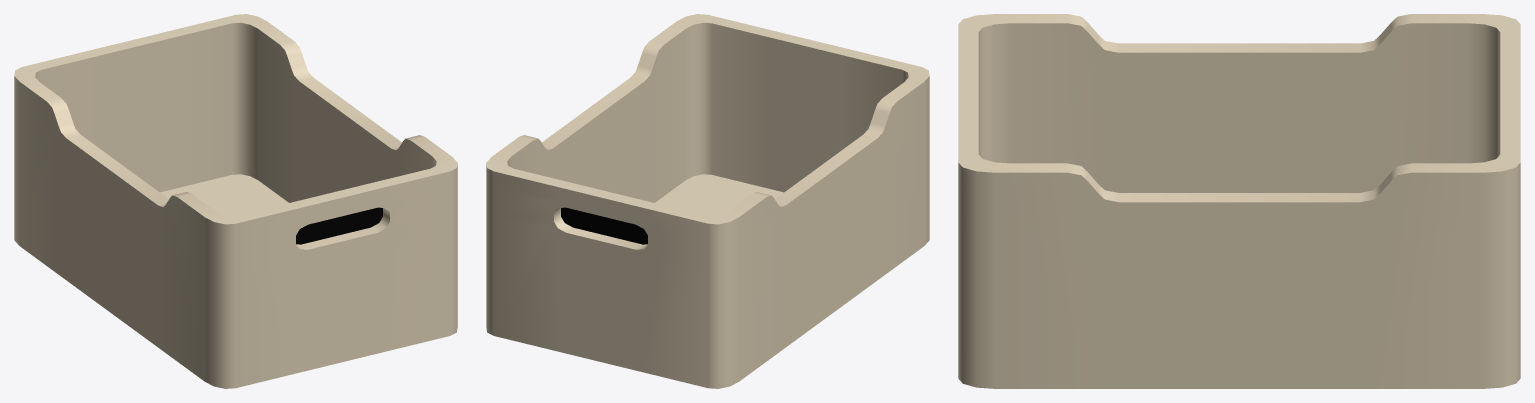
File: Caixote.fbx
3 renders of one model, left to right at view 1: azimuth 30°, elevation 25°; view 2: azimuth 150°, elevation 25°; view 3: azimuth 270°, elevation 25°, orthographic. The views are drawn at different scales.
Visible parts, largest first — view 1: Caixa; view 2: Caixa; view 3: Caixa.
Boxes of the visible parts, <box> form: Caixa: <box>14,14,457,388</box>; Caixa: <box>486,14,929,388</box>; Caixa: <box>958,14,1520,388</box>.
Size of the model in its own units: 134 by 84.82 by 200.
